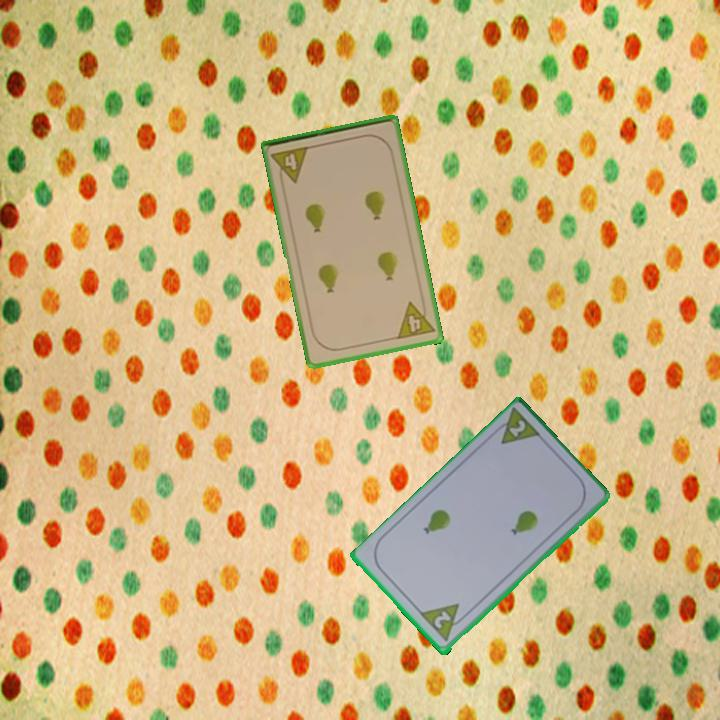2p: (430, 608, 454, 632), (505, 416, 529, 440)
4p: (393, 296, 437, 342), (268, 143, 312, 188)
